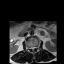CCS_normal: (32, 45, 33, 51)
LFS_normal: (35, 45, 37, 50)
LLS_normal: (33, 45, 35, 50)
RFS_normal: (29, 45, 30, 50)
RLS_normal: (30, 45, 32, 50)
